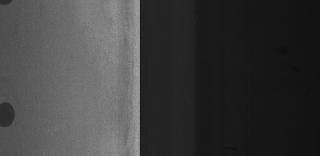oil spot: (1, 93, 22, 135), (1, 0, 18, 10)
